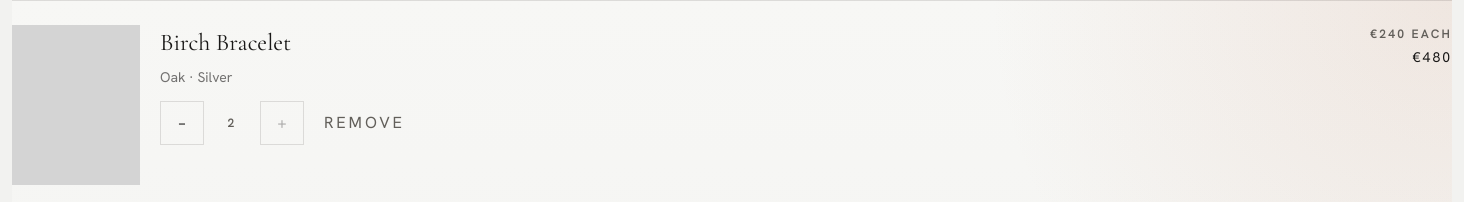
CartItemRow › explains when no more inventory is available
Focus the button named "Increase quantity" at (282, 123), box [260,101,304,145]
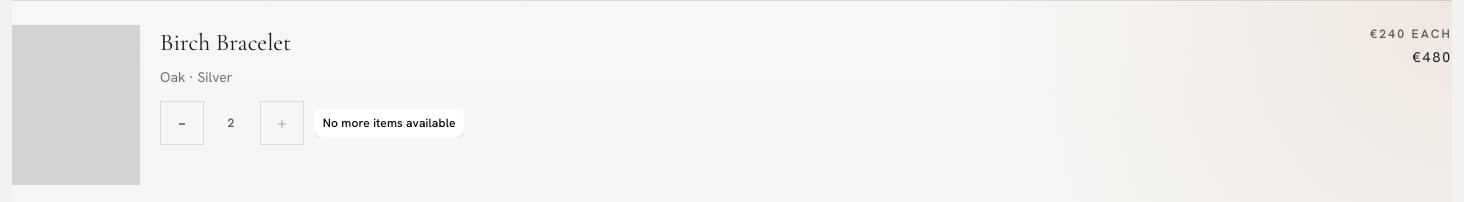
Expected: the tooltip reads "No more items available", [323,115,456,131]
